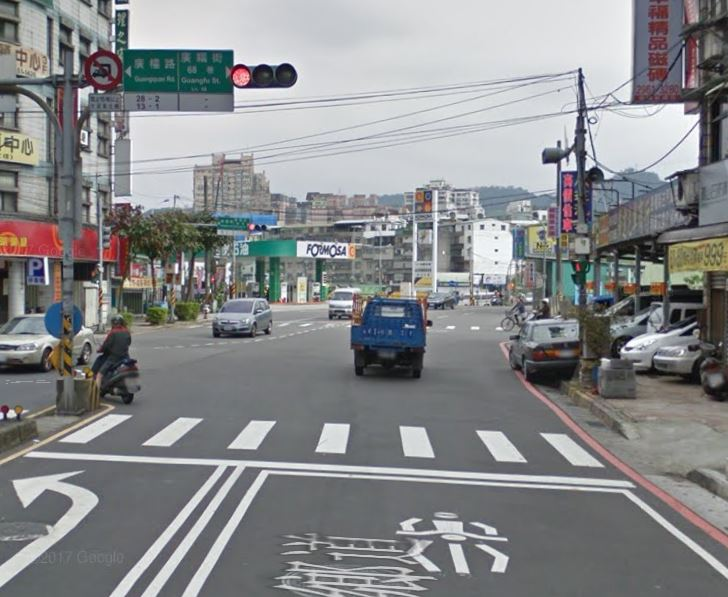Traffic_light_red: (229, 62, 297, 89)
